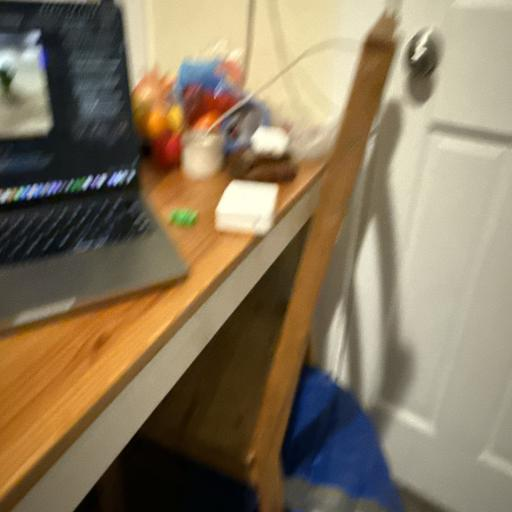Minifig: (168, 208, 198, 227)
